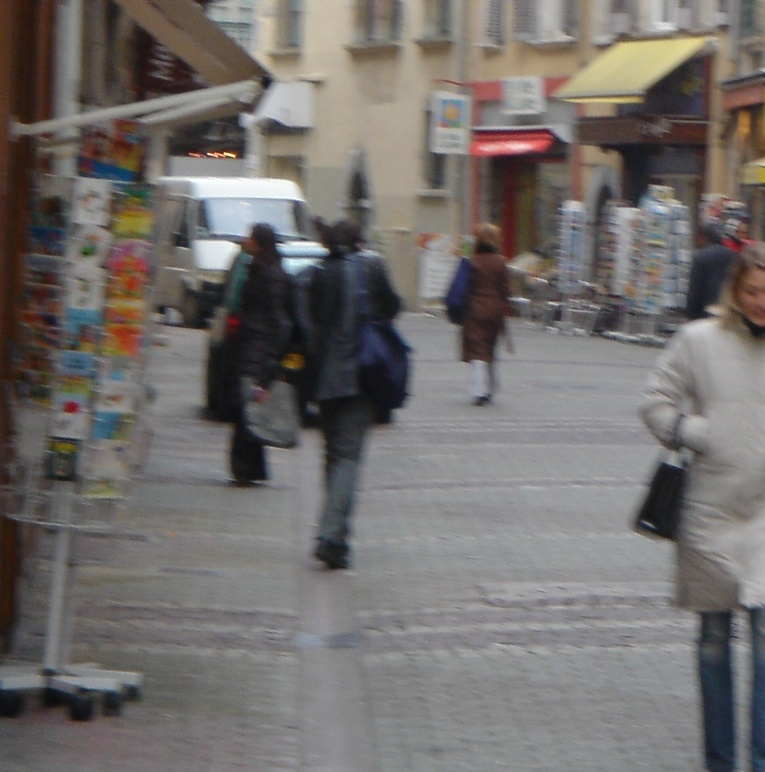person: (298, 216, 396, 570), (226, 223, 293, 486), (456, 223, 514, 403)
